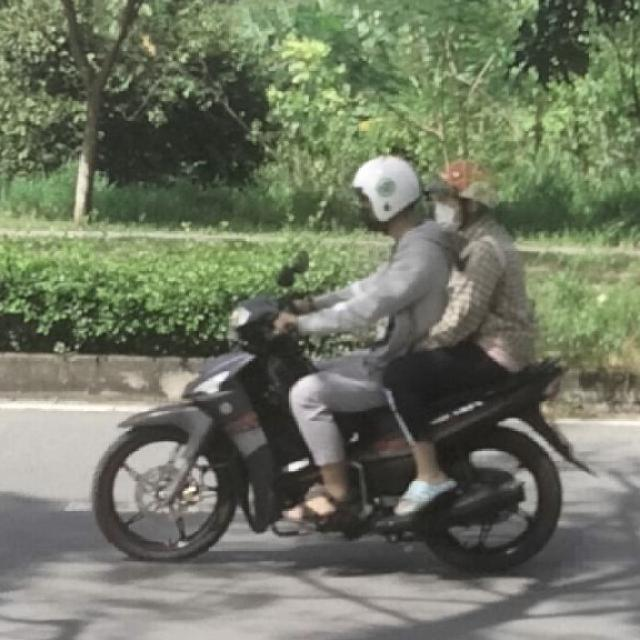Helmet: (350, 152, 420, 232), (432, 158, 504, 234)
